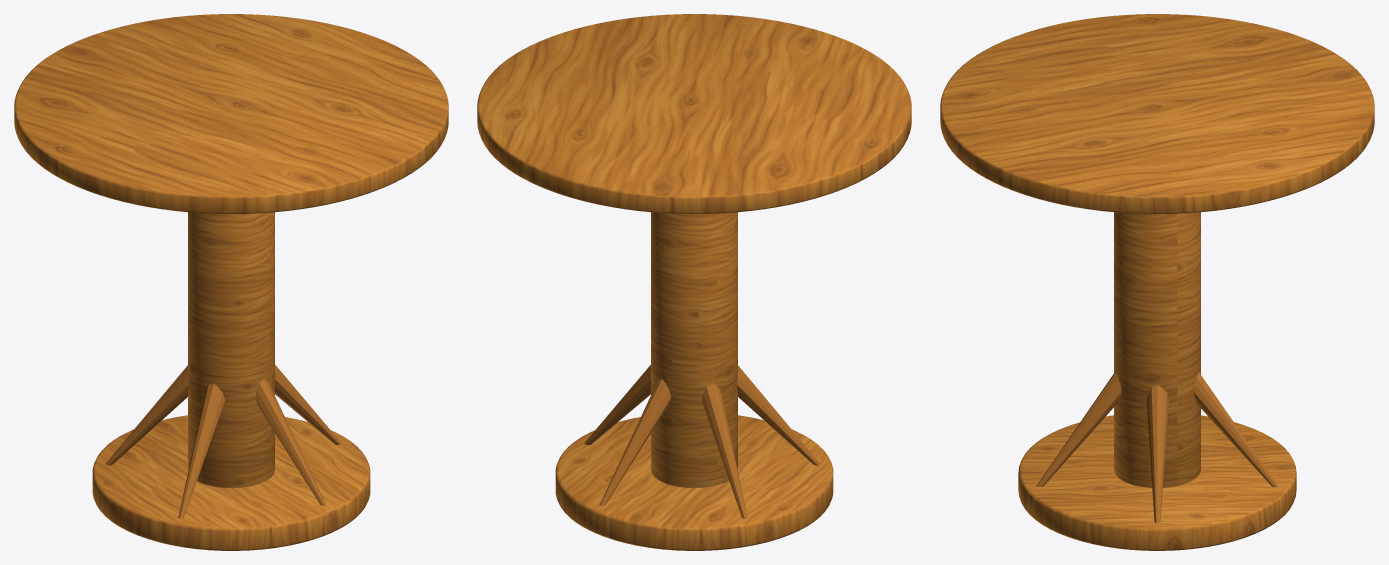
File: breakfast-table.glb
3 views of the same model, side by side, from view 1: azimuth 30°, elevation 25°; view 2: azimuth 150°, elevation 25°; view 3: azimuth 270°, elevation 25° (orthographic).
Parts seen in each view (by area): view 1: breakfast-table; view 2: breakfast-table; view 3: breakfast-table.
Part boxes in pixels (x1,y1,x2,y2): breakfast-table: (14, 14, 448, 550); breakfast-table: (477, 14, 911, 550); breakfast-table: (940, 14, 1374, 550).
Size of the model in its own units: 0.75 by 0.74 by 0.75.
Materials: 1 (1 with a texture image).
